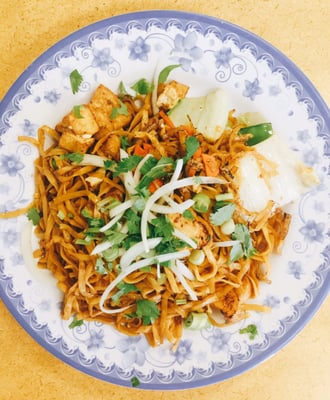sushi: (2, 3, 328, 386)
